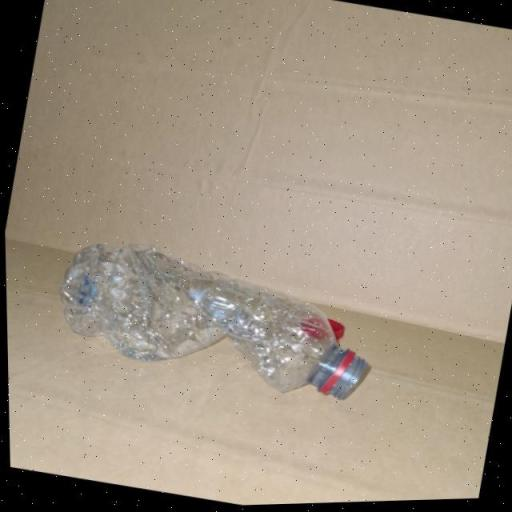plastic: (45, 224, 387, 420)
